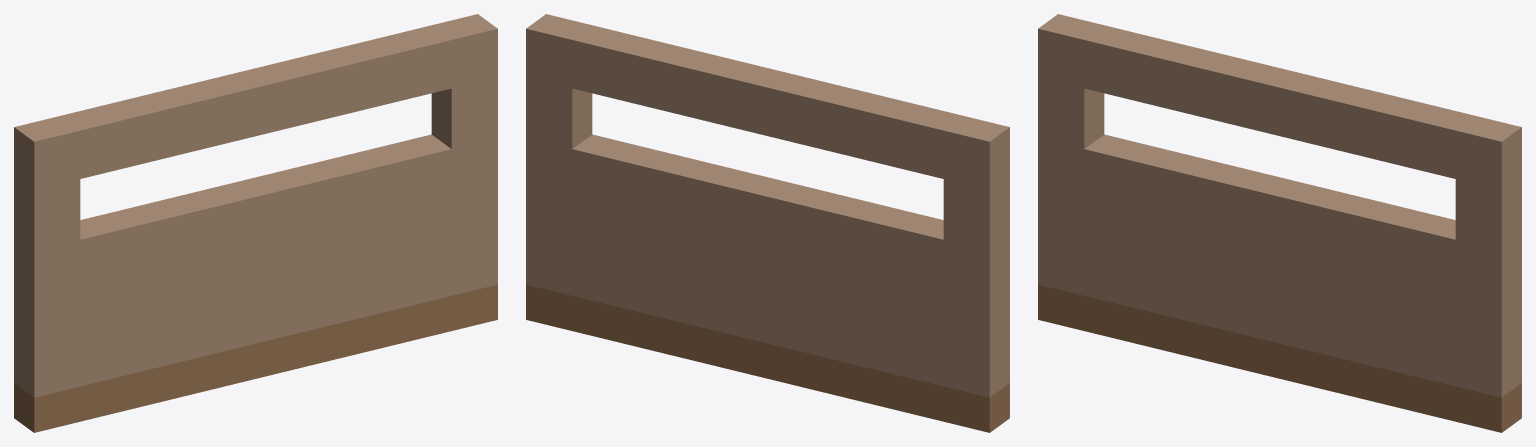
The model's file is Wall_01.glb.
3 views of the same model, side by side, from view 1: azimuth 30°, elevation 25°; view 2: azimuth 150°, elevation 25°; view 3: azimuth 330°, elevation 25° (orthographic).
Parts seen in each view (by area): view 1: Wall_01; view 2: Wall_01; view 3: Wall_01.
Part boxes in pixels (x1,y1,x2,y2): Wall_01: (14,14,497,432); Wall_01: (526,14,1009,432); Wall_01: (1038,14,1521,432).
Bounding box in the file's own units: 4 × 2.4 × 0.3.
Materials: 1 (1 with a texture image).
